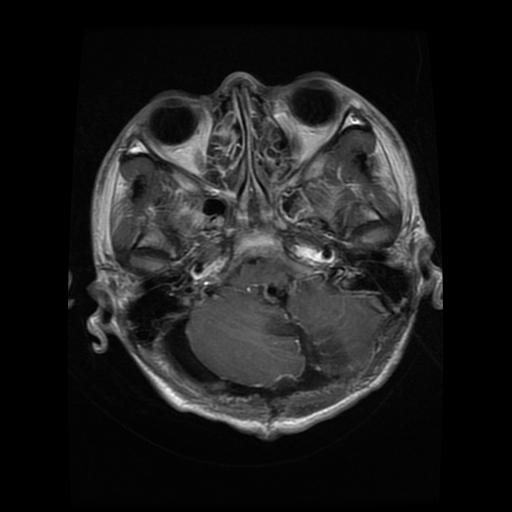Gliomia_tumour: (263, 314, 352, 374)
